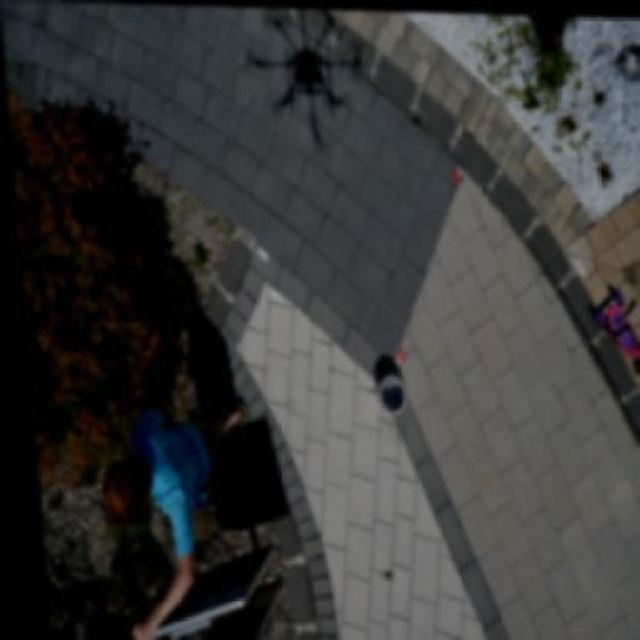Person: (68, 383, 264, 639)
